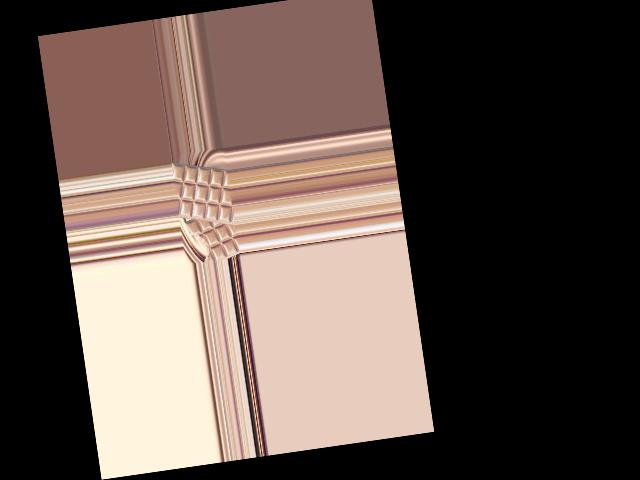chocolate: (171, 153, 236, 233)
